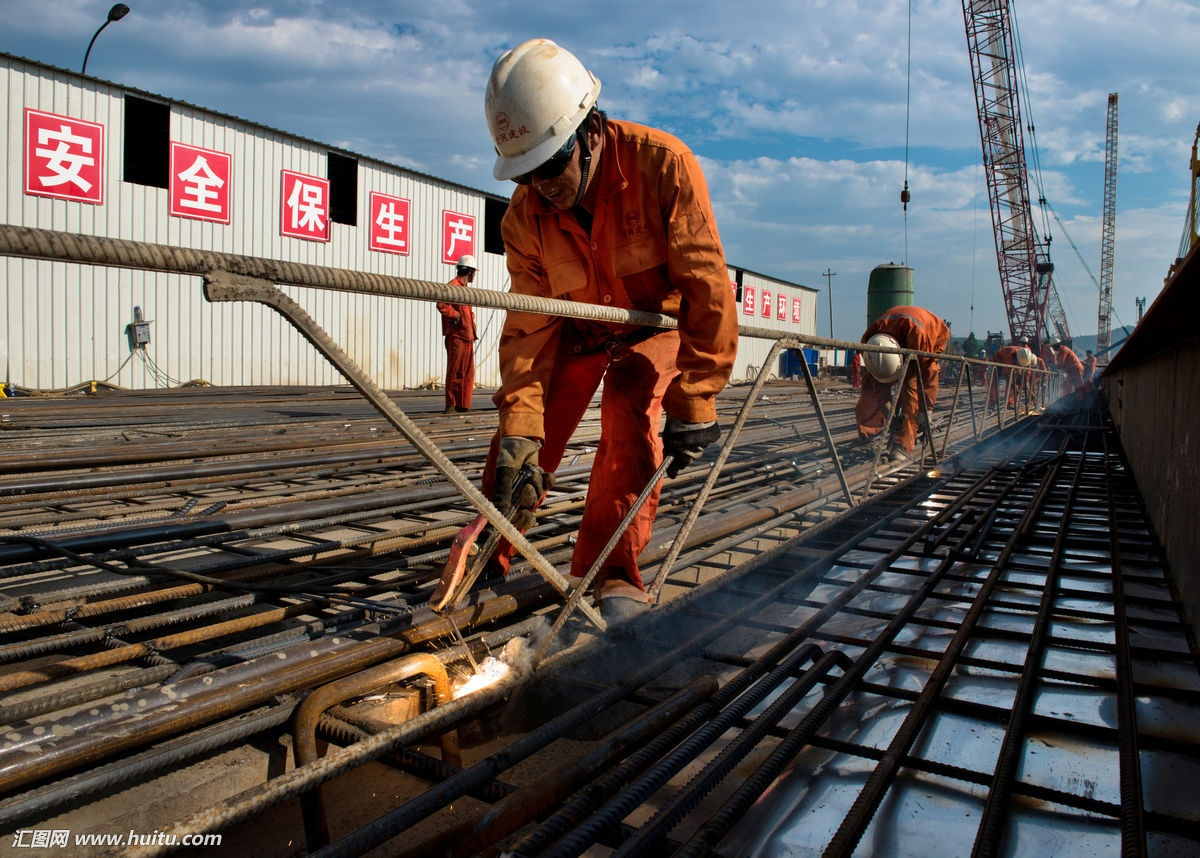white: (484, 38, 600, 209), (859, 331, 907, 385), (451, 252, 477, 283), (1014, 347, 1033, 368), (1048, 337, 1061, 353), (1019, 334, 1029, 346)
